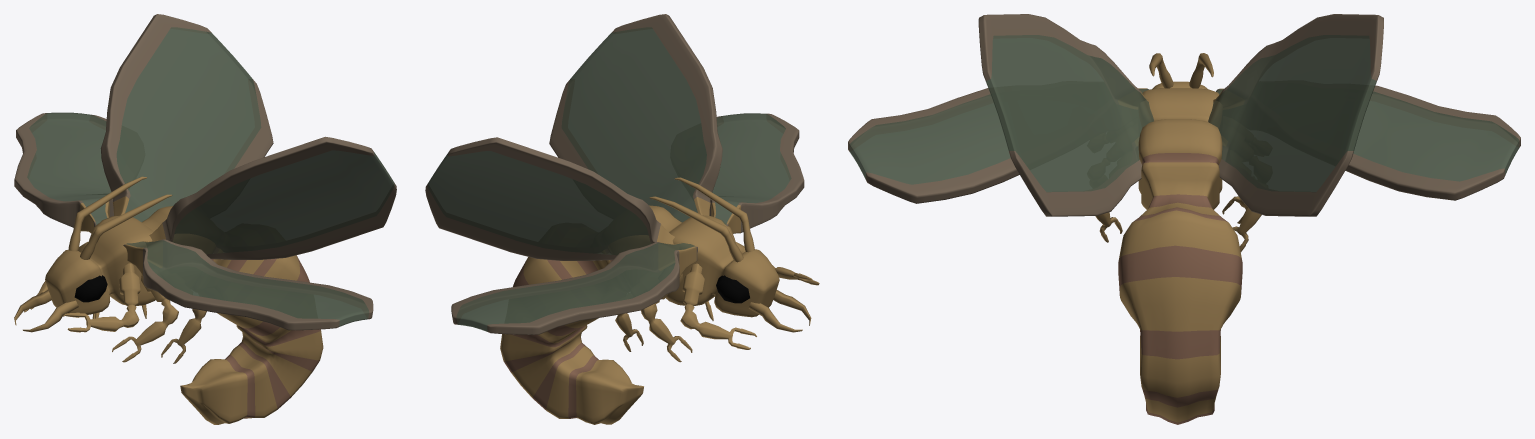
The model's file is flyingBug.fbx.
3 renders of one model, left to right at view 1: azimuth 30°, elevation 25°; view 2: azimuth 150°, elevation 25°; view 3: azimuth 270°, elevation 25°, orthographic. The views are drawn at different scales.
Visible parts, largest first — view 1: pCube18; view 2: pCube18; view 3: pCube18.
Part boxes in pixels (left/top/right/bottom): pCube18: left=14, top=14, right=396, bottom=424; pCube18: left=425, top=14, right=819, bottom=424; pCube18: left=848, top=14, right=1520, bottom=424.
Bounding box in the file's own units: 24.69 × 26.04 × 39.38.
